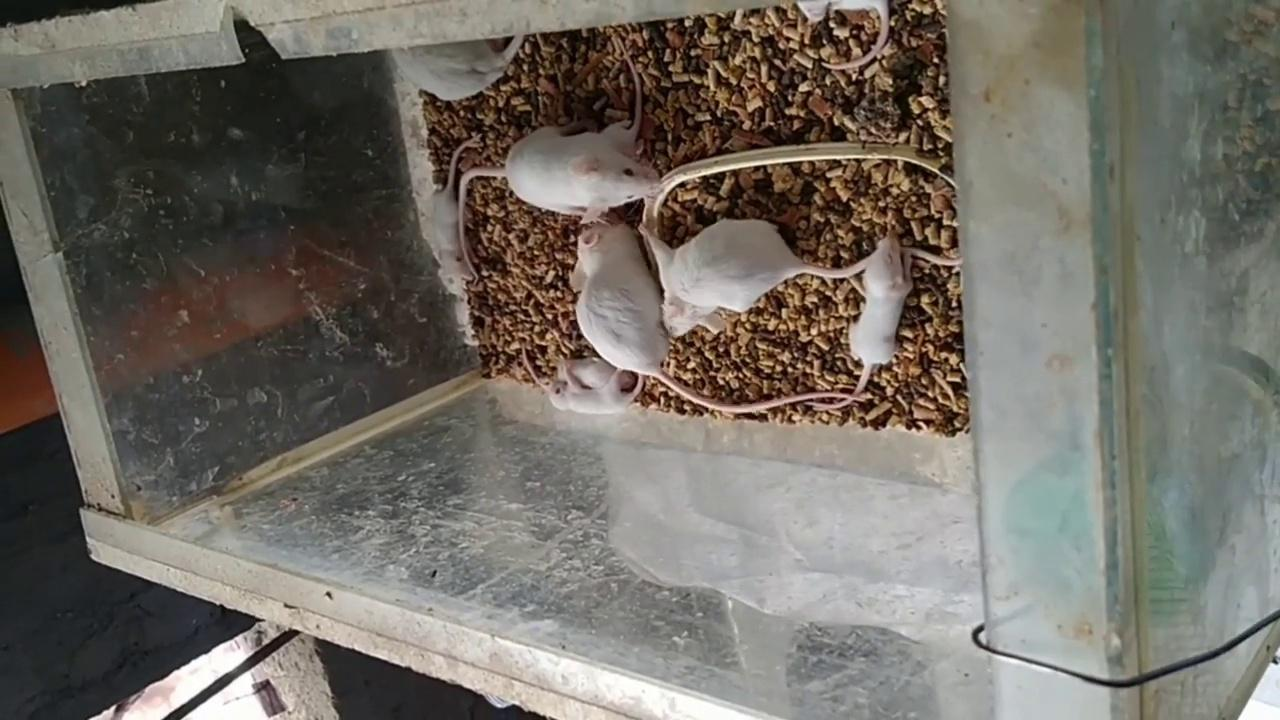rat: (567, 221, 865, 412), (458, 125, 664, 280), (634, 222, 863, 338), (812, 234, 914, 409), (392, 35, 526, 99), (546, 379, 638, 413)
